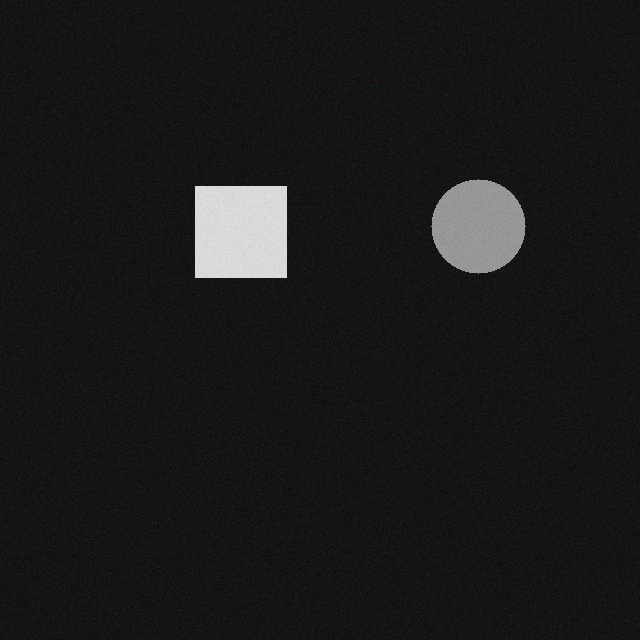circle: (432, 187, 526, 281)
square: (196, 194, 287, 285)
